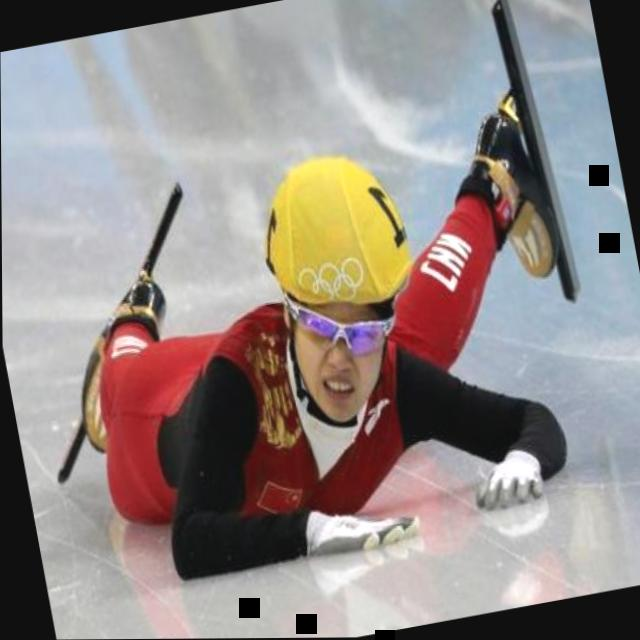Fall-Detected: (22, 64, 639, 624)
